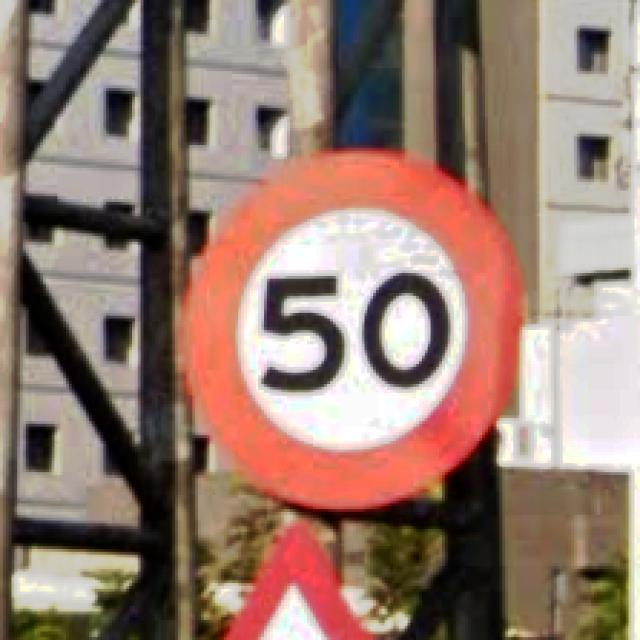max50: (178, 142, 525, 512)
